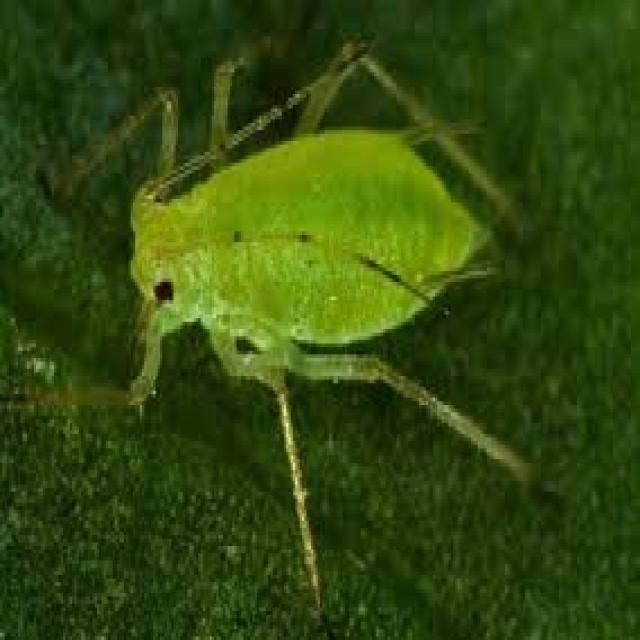Pestalotiopsis: (74, 51, 556, 478)
